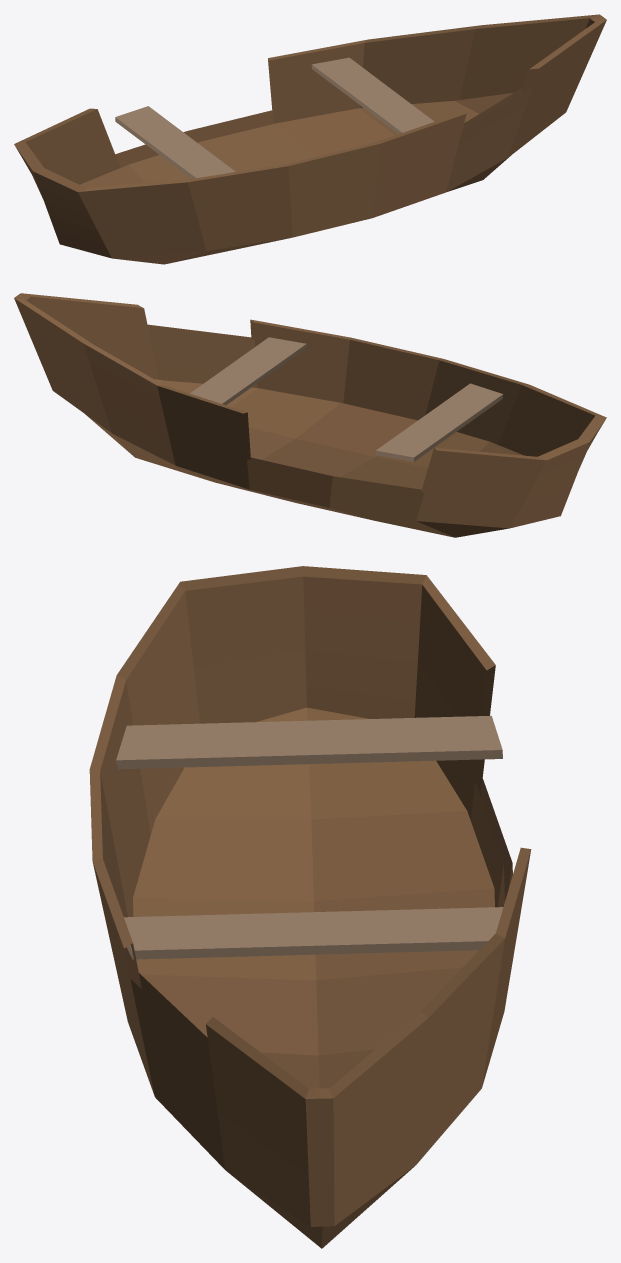
The model's file is 04 Boat_Broken_1.FBX.
3 views of the same model, one above another, from view 1: azimuth 30°, elevation 25°; view 2: azimuth 150°, elevation 25°; view 3: azimuth 270°, elevation 25° (orthographic). The views are drawn at different scales.
Visible parts, largest first — view 1: Cube011; view 2: Cube011; view 3: Cube011.
Boxes of the visible parts, x1=… form: Cube011: x1=14, y1=14, x2=606, y2=264; Cube011: x1=14, y1=293, x2=606, y2=537; Cube011: x1=89, y1=566, x2=531, y2=1248.
Size of the model in its own units: 1082 by 255 by 364.
